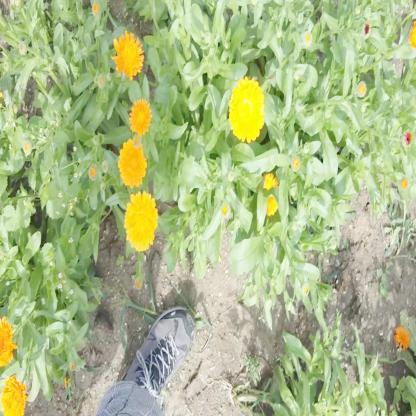marigold: (230, 80, 263, 142), (124, 190, 157, 247), (110, 31, 141, 78), (119, 140, 145, 186), (128, 96, 151, 135), (3, 375, 27, 412)
